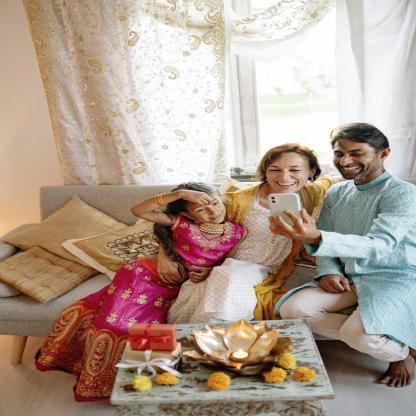Eye: (350, 153, 364, 157), (334, 153, 344, 157), (196, 208, 206, 212), (288, 169, 301, 172), (269, 169, 281, 172), (212, 201, 219, 206)
Mouth: (339, 165, 363, 173), (274, 181, 298, 189), (207, 213, 222, 220)
Nose: (340, 154, 353, 166), (279, 170, 290, 181), (207, 207, 219, 215)
